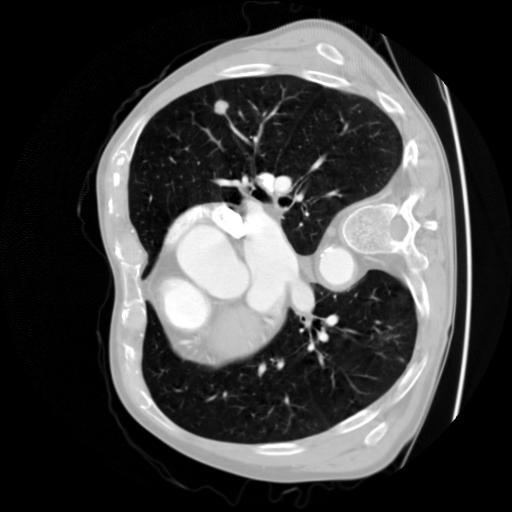nodule: (211, 96, 231, 116)
